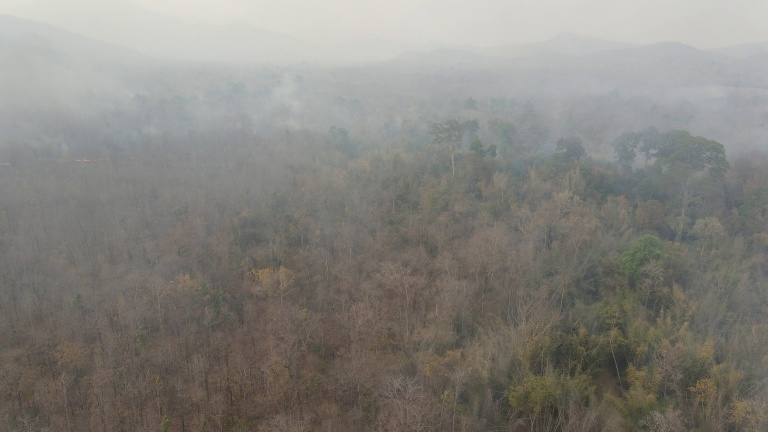fire: (3, 149, 198, 168)
smoke: (1, 1, 768, 159), (268, 71, 310, 132)
